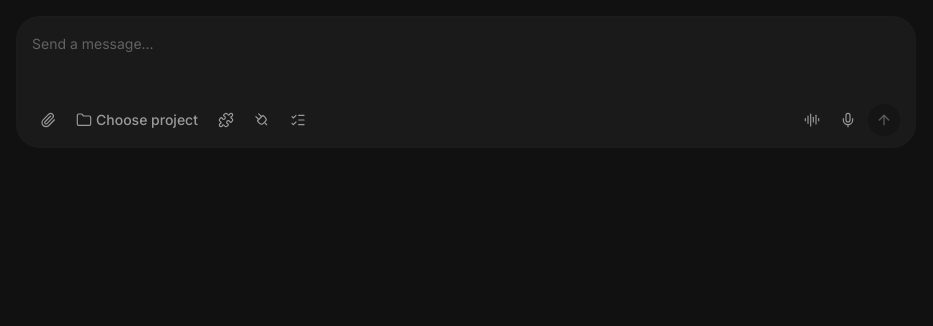
Test: ChatView › shows the saved partial reply once, marked failed, with Retry
Type "hello" into the text box with placeholder "Send a message...". click: (466, 44)
box: [32,32,900,56]
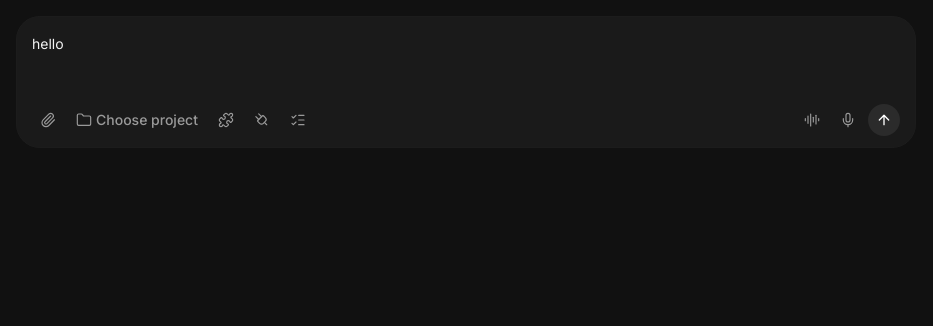
Press Enter in the text box with placeholder "Send a message...", box [32,32,900,56]
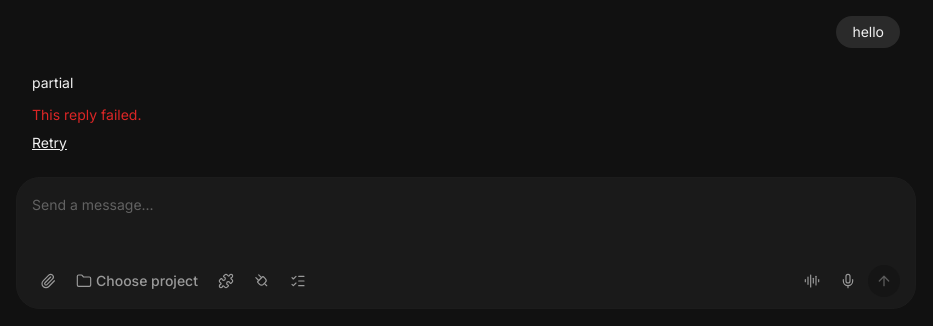
expect the text box with placeholder "Send a message..." is empty: met, box [32,193,900,217]
expect the button "Retry" is shown: met, box [32,133,67,153]
expect the text "partial" is shown once: met, box [32,72,73,95]
